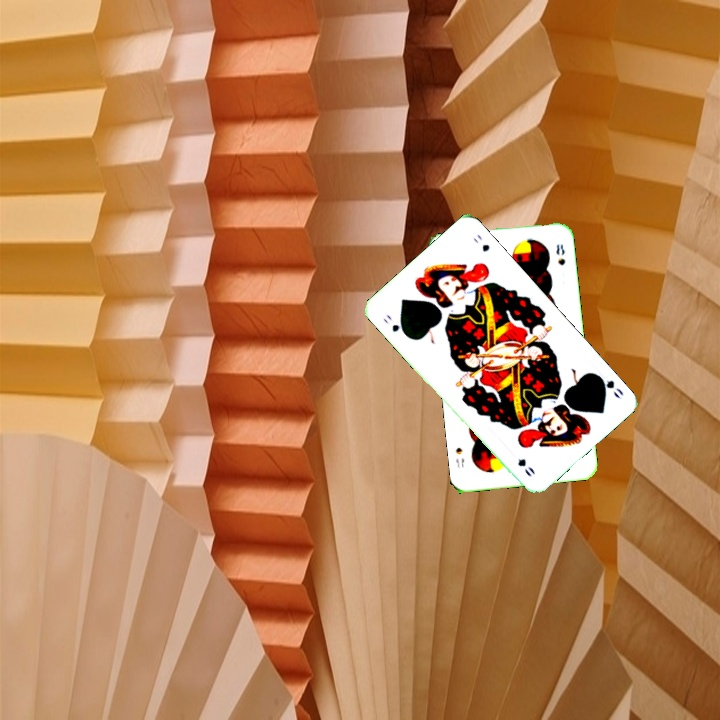GO: (592, 370, 626, 401), (379, 310, 410, 339)
